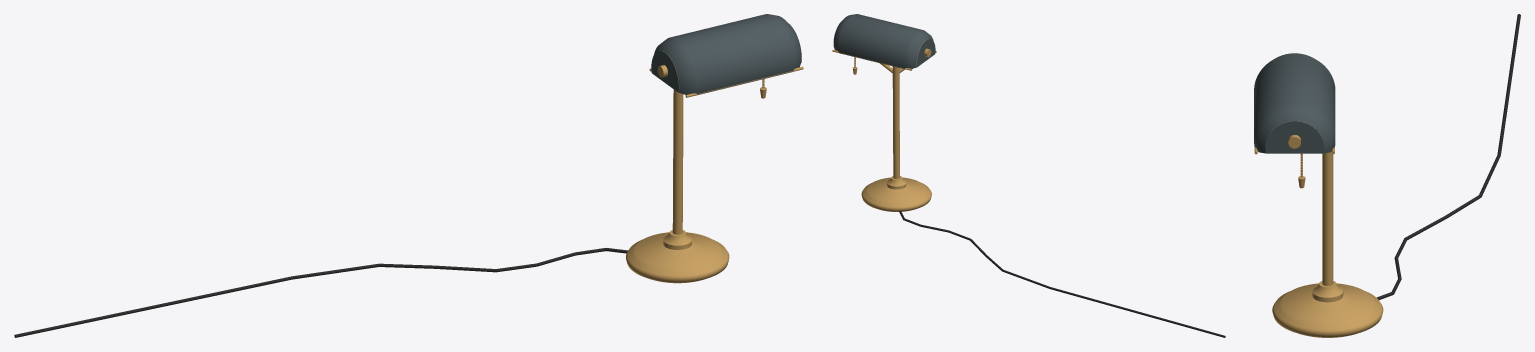
The model's file is Studio.glb.
3 views of the same model, side by side, from view 1: azimuth 30°, elevation 25°; view 2: azimuth 150°, elevation 25°; view 3: azimuth 270°, elevation 25° (orthographic). The views are drawn at different scales.
Parts seen in each view (by area): view 1: Enamel gallery, Weighted base, Post, Power lead, Shade end; view 2: Enamel gallery, Weighted base, Post, Power lead; view 3: Enamel gallery, Weighted base, Post, Shade end, Power lead, Turned stem collar.
Boxes of the visible parts, x1,y1,x2,y2 form: Enamel gallery: (654,14,801,95); Weighted base: (626,232,729,283); Post: (672,89,683,234); Power lead: (14,276,292,337); Shade end: (651,51,678,92); Enamel gallery: (833,14,933,68); Weighted base: (861,177,931,211); Post: (892,66,899,178); Power lead: (1049,287,1225,337); Enamel gallery: (1254,53,1335,153); Weighted base: (1272,283,1383,337); Post: (1322,151,1333,285); Shade end: (1265,121,1324,153); Power lead: (1497,14,1520,154); Turned stem collar: (1312,281,1343,302).
Bounding box in the file's own units: 7.04 × 2.39 × 2.26.
